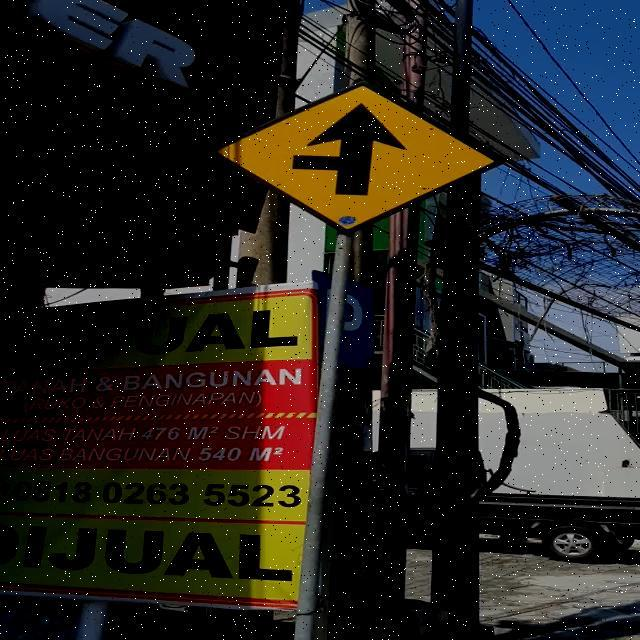Persimpangan 3 Prioritas Kiri: (206, 80, 504, 235)
